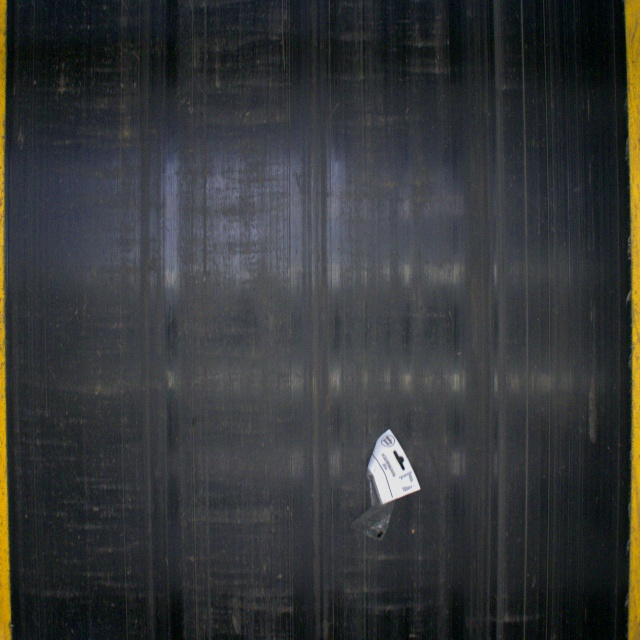Foodgrade: (350, 425, 420, 539)
